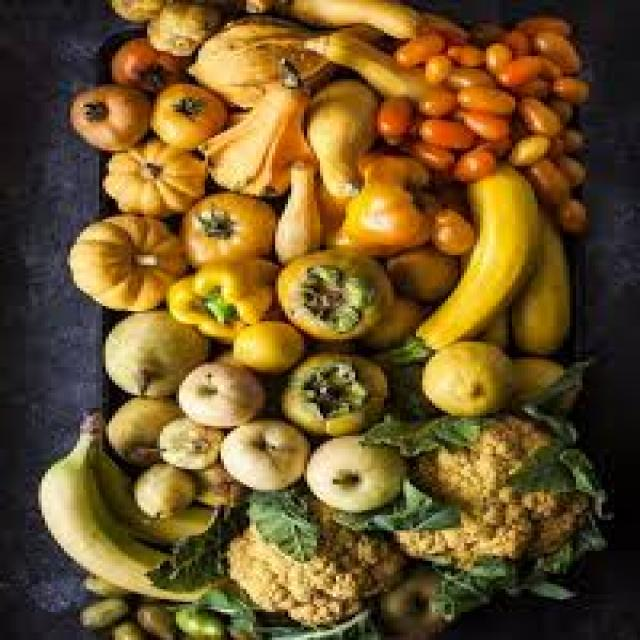organic waste: (378, 395, 608, 597), (144, 487, 438, 625), (35, 408, 218, 602), (374, 171, 534, 367), (195, 56, 314, 191), (86, 431, 198, 548), (186, 20, 336, 104), (64, 212, 186, 306), (276, 245, 390, 336), (134, 500, 243, 594), (301, 20, 432, 94), (300, 76, 378, 199), (96, 311, 211, 393), (167, 258, 276, 339), (278, 352, 384, 433), (509, 207, 566, 357), (96, 135, 205, 212), (298, 431, 403, 507), (419, 334, 512, 416), (176, 191, 275, 265), (339, 171, 429, 250), (374, 564, 461, 638), (339, 479, 458, 533), (218, 416, 307, 484), (173, 360, 262, 423), (246, 487, 324, 558), (67, 81, 147, 148), (269, 156, 320, 260), (102, 395, 180, 462), (381, 240, 461, 298), (275, 0, 413, 33), (150, 79, 221, 143), (250, 604, 380, 638), (509, 355, 579, 418), (106, 36, 186, 91), (144, 0, 218, 54), (131, 459, 195, 518), (154, 413, 220, 467), (230, 319, 301, 367), (516, 156, 566, 219), (384, 362, 432, 416), (368, 293, 419, 342), (525, 25, 576, 69), (391, 133, 452, 168), (512, 357, 560, 400), (410, 5, 464, 43), (128, 600, 182, 638), (429, 202, 470, 252), (362, 151, 416, 186), (192, 467, 246, 502), (413, 115, 470, 148), (368, 94, 410, 138), (512, 94, 557, 135), (170, 604, 224, 638), (70, 594, 128, 625), (448, 143, 493, 178), (391, 31, 442, 61), (454, 84, 506, 112), (458, 110, 506, 140), (496, 133, 544, 163), (512, 15, 566, 41), (413, 82, 454, 115), (547, 71, 589, 102), (474, 38, 506, 76), (442, 66, 492, 90), (432, 181, 467, 212), (550, 148, 582, 181), (109, 0, 166, 18), (541, 92, 576, 120), (499, 54, 538, 79), (76, 571, 122, 592), (550, 199, 582, 227), (419, 54, 448, 82), (109, 617, 147, 638), (550, 122, 580, 148), (445, 41, 483, 61), (534, 54, 564, 79), (227, 0, 272, 15), (227, 617, 259, 638), (461, 21, 499, 38), (506, 74, 544, 89), (499, 28, 518, 48), (224, 107, 250, 120), (211, 350, 227, 360)
